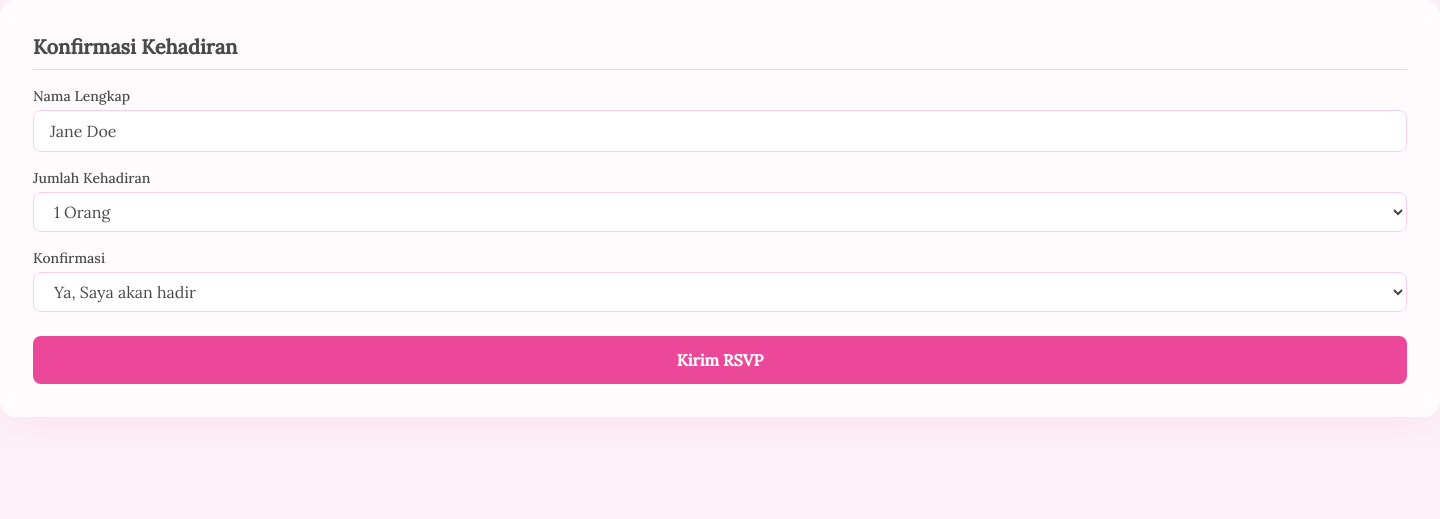
RsvpForm Component › displays error banner when API returns error
The width and height of the screenshot is (1440, 519).
Click the button "Kirim RSVP": (720, 360) [33,336,1407,384]
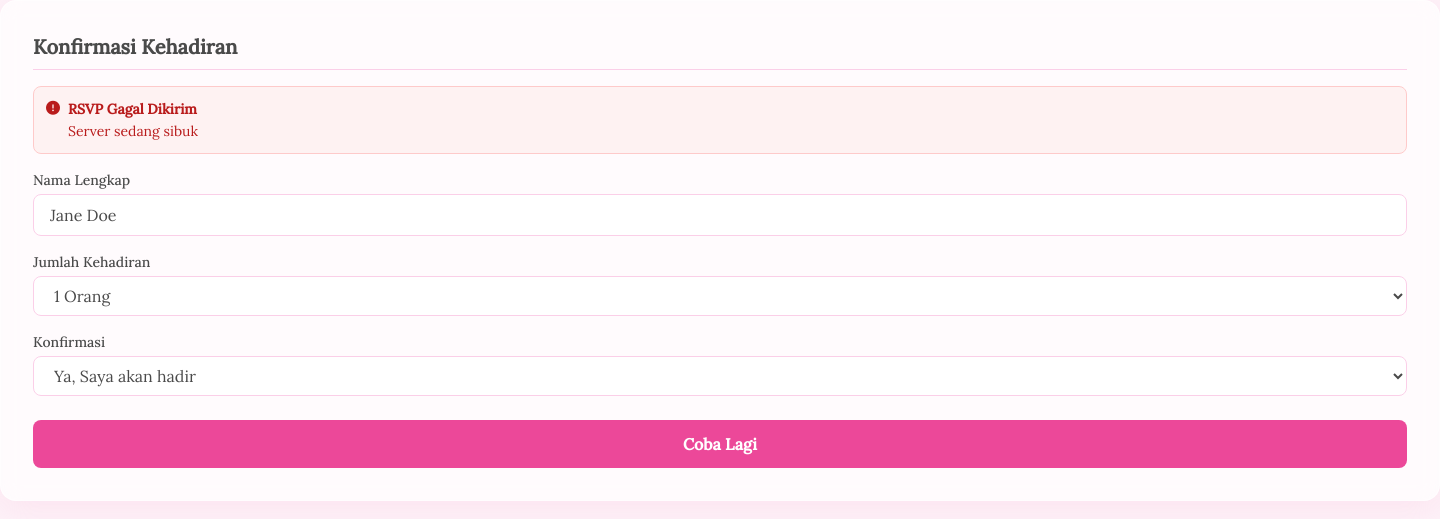
Expected: the message "RSVP Gagal Dikirim Server sedang sibuk" is shown, [33,86,1407,154]
Expected: the text "Server sedang sibuk" is shown, [68,121,198,141]
Expected: the text "RSVP Gagal Dikirim" is shown, [68,99,198,119]
